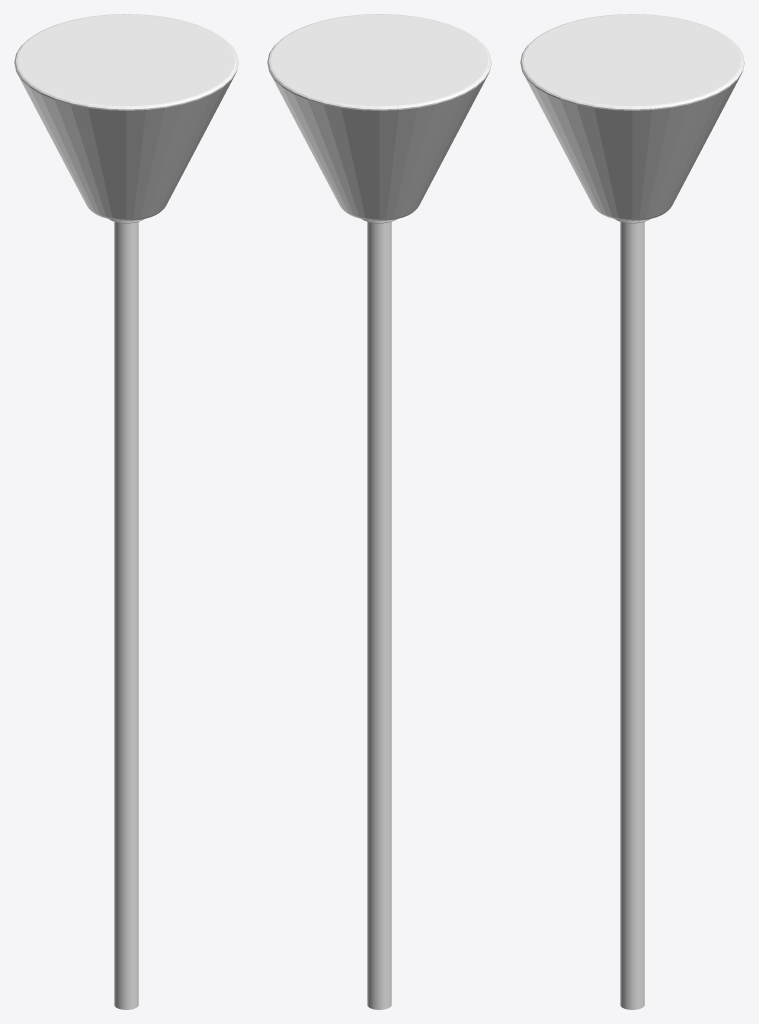
3 renders of one model, left to right at view 1: azimuth 30°, elevation 25°; view 2: azimuth 150°, elevation 25°; view 3: azimuth 270°, elevation 25°, orthographic.
Visible parts, largest first — view 1: base:Simple_Ceiling_Fancable1; view 2: base:Simple_Ceiling_Fancable1; view 3: base:Simple_Ceiling_Fancable1.
Boxes of the visible parts, x1=… form: base:Simple_Ceiling_Fancable1: x1=14, y1=14, x2=238, y2=1009; base:Simple_Ceiling_Fancable1: x1=267, y1=14, x2=491, y2=1009; base:Simple_Ceiling_Fancable1: x1=520, y1=14, x2=744, y2=1009.
Size of the model in its own units: 0.1713 by 0.796 by 0.1713.
1 material, 1 textured.
